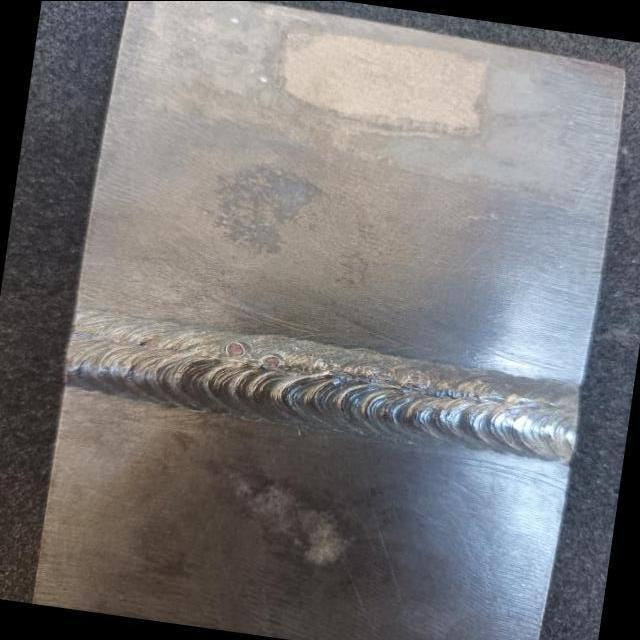defect: (218, 338, 249, 359), (257, 354, 286, 373), (367, 364, 392, 383), (402, 372, 427, 390), (133, 336, 148, 349)
